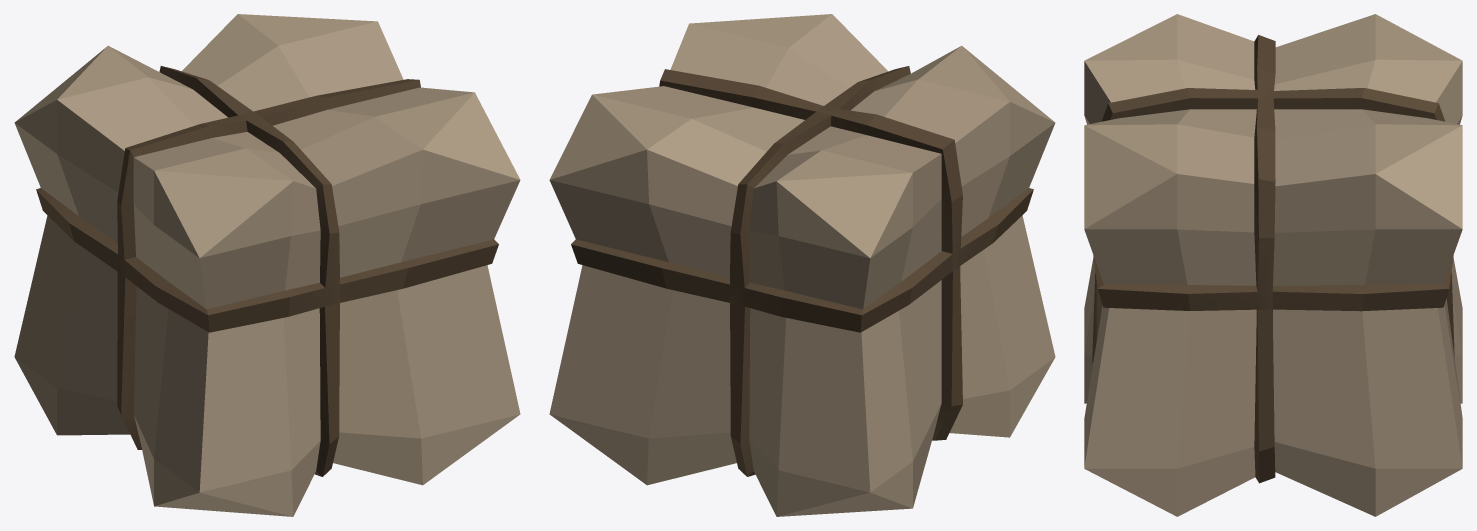
The model's file is SM_Prop_Crate_Covered_01.fbx.
3 views of the same model, side by side, from view 1: azimuth 30°, elevation 25°; view 2: azimuth 150°, elevation 25°; view 3: azimuth 270°, elevation 25° (orthographic). The views are drawn at different scales.
Visible parts, largest first — view 1: SM_Prop_Crate_Covered_01; view 2: SM_Prop_Crate_Covered_01; view 3: SM_Prop_Crate_Covered_01.
Boxes of the visible parts, x1,y1,x2,y2 form: SM_Prop_Crate_Covered_01: (14, 14, 520, 516); SM_Prop_Crate_Covered_01: (549, 14, 1055, 516); SM_Prop_Crate_Covered_01: (1084, 14, 1462, 516).
Size of the model in its own units: 0.6263 by 0.6263 by 0.6263.
